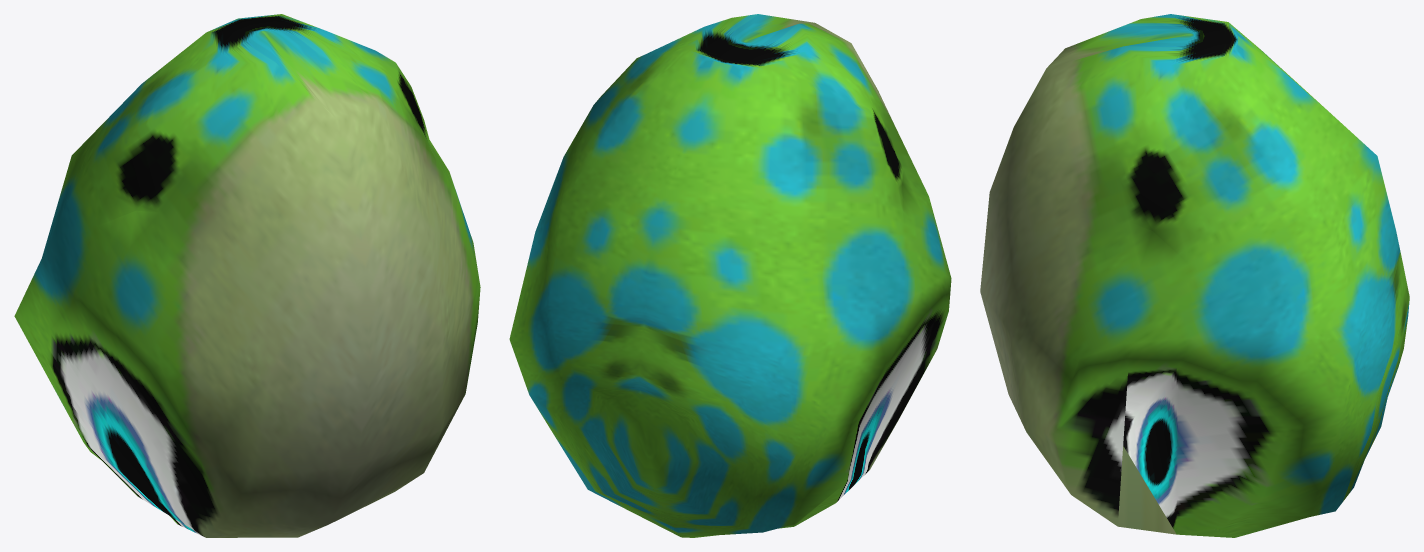
File: body-0_toy_story_3_dragon.blend.obj
3 renders of one model, left to right at view 1: azimuth 30°, elevation 25°; view 2: azimuth 150°, elevation 25°; view 3: azimuth 270°, elevation 25°, orthographic. The views are drawn at different scales.
Parts seen in each view (by area): view 1: body-0_toy_story_3_dragon.blend_dragon_wii_png; view 2: body-0_toy_story_3_dragon.blend_dragon_wii_png; view 3: body-0_toy_story_3_dragon.blend_dragon_wii_png.
Part boxes in pixels (x1=…): body-0_toy_story_3_dragon.blend_dragon_wii_png: x1=14, y1=14, x2=480, y2=537; body-0_toy_story_3_dragon.blend_dragon_wii_png: x1=509, y1=14, x2=951, y2=537; body-0_toy_story_3_dragon.blend_dragon_wii_png: x1=980, y1=14, x2=1409, y2=537.
Bounding box in the file's own units: 2.28 × 2.94 × 2.35.
1 material, 1 textured.
